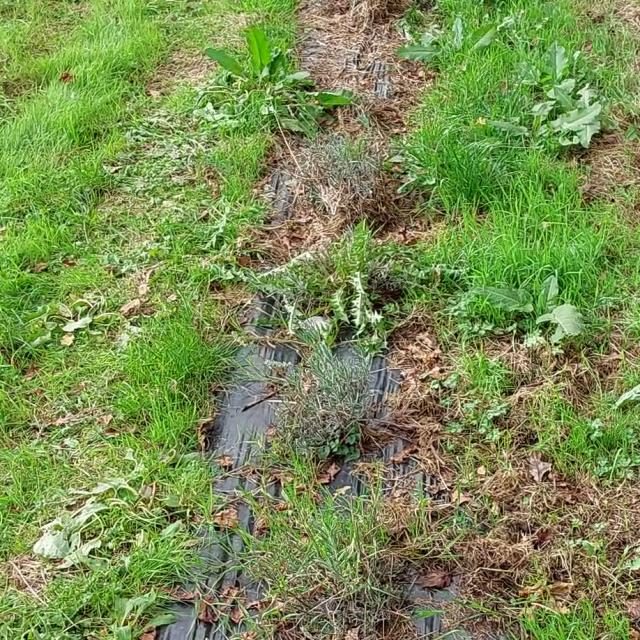organic waste: (195, 36, 339, 141), (25, 494, 147, 590), (476, 264, 591, 364), (24, 289, 160, 357), (396, 0, 499, 77), (531, 83, 616, 158), (526, 44, 600, 104), (477, 96, 558, 135)
